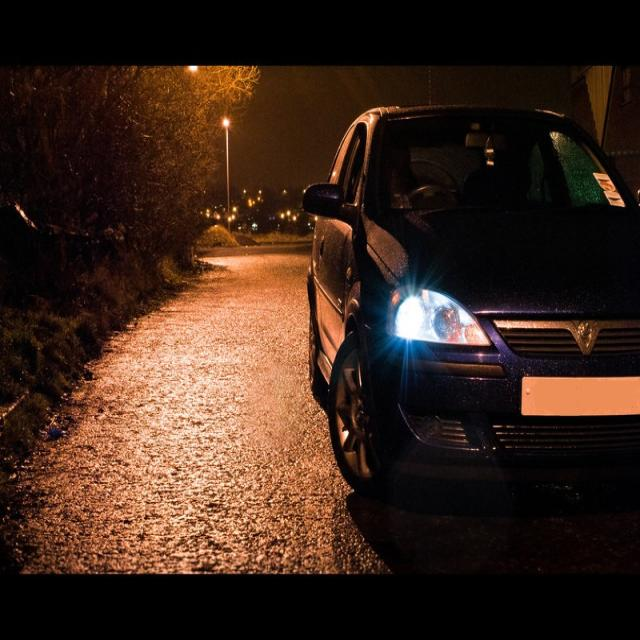Car: (300, 109, 640, 505)
